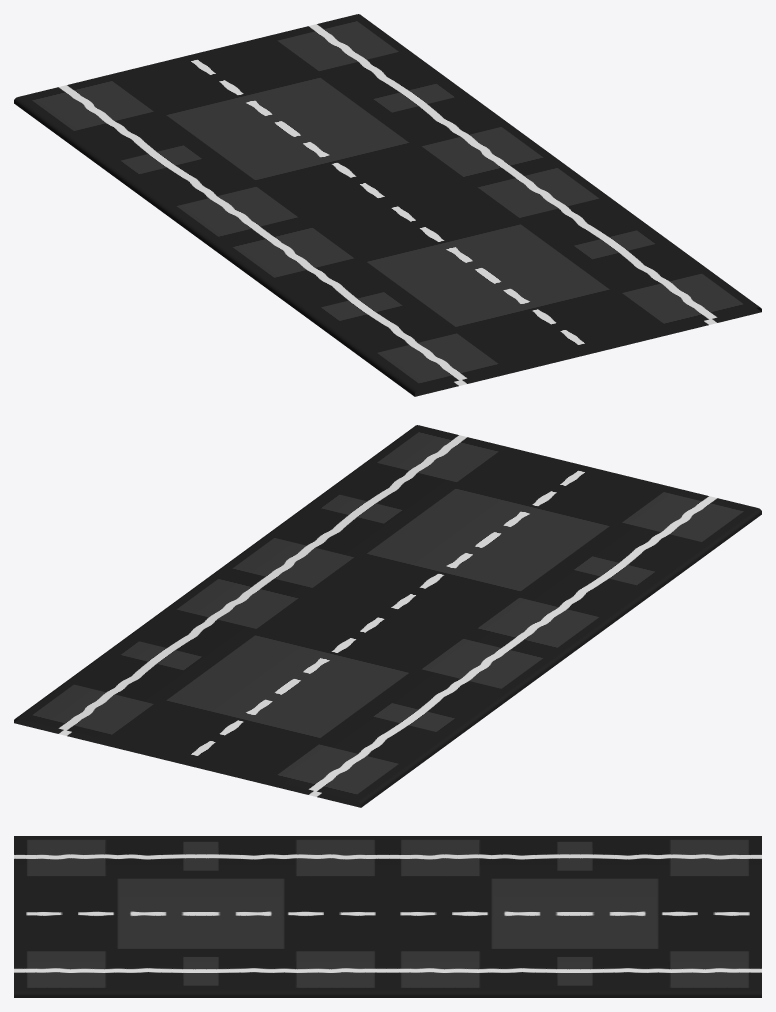
The model's file is TrackSegment.fbx.
3 views of the same model, one above another, from view 1: azimuth 30°, elevation 25°; view 2: azimuth 150°, elevation 25°; view 3: azimuth 270°, elevation 25° (orthographic). The views are drawn at different scales.
Visible parts, largest first — view 1: TrackSegment; view 2: TrackSegment; view 3: TrackSegment.
Part boxes in pixels (x1,y1,x2,y2): TrackSegment: [14, 14, 761, 396]; TrackSegment: [14, 425, 761, 807]; TrackSegment: [14, 836, 761, 997].
Bounding box in the file's own units: 66 × 1 × 132.
